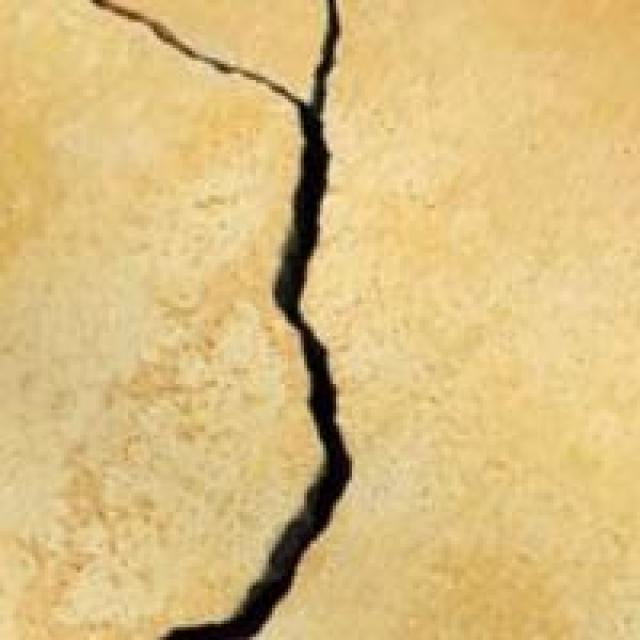Crack: (87, 0, 420, 637)
